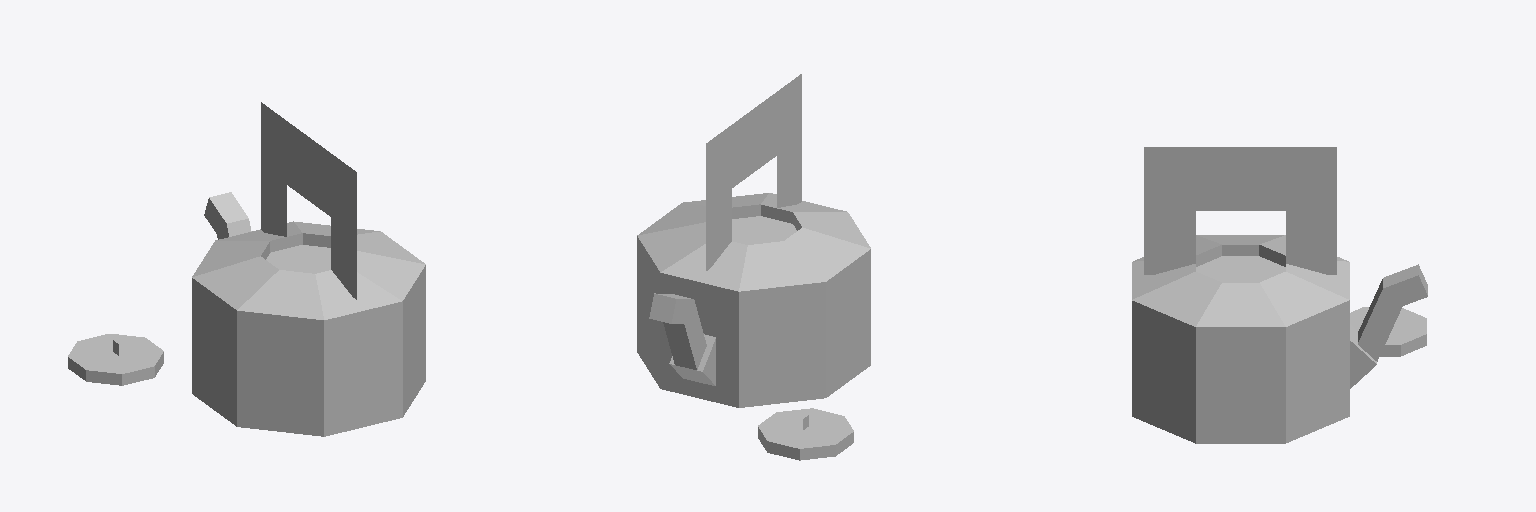
File: kettle_open.obj
The picture shows the model from 3 angles: view 1: azimuth 30°, elevation 25°; view 2: azimuth 150°, elevation 25°; view 3: azimuth 270°, elevation 25°; orthographic projection.
Visible parts, largest first — view 1: cylinder, handle, cylinder.000, cube.000; view 2: cylinder, handle, cylinder.000, cube.000, cube; view 3: cylinder, handle, cube.000, cylinder.000, cube.
Part boxes in pixels (bbox=[...]): cylinder: bbox=[192, 221, 425, 436]; handle: bbox=[261, 102, 356, 299]; cylinder.000: bbox=[68, 334, 163, 385]; cube.000: bbox=[204, 192, 251, 239]; cylinder: bbox=[637, 193, 870, 407]; handle: bbox=[706, 74, 801, 270]; cylinder.000: bbox=[758, 408, 853, 460]; cube.000: bbox=[649, 293, 706, 369]; cube: bbox=[669, 334, 715, 385]; cylinder: bbox=[1132, 235, 1349, 443]; handle: bbox=[1144, 147, 1336, 274]; cube.000: bbox=[1358, 264, 1427, 361]; cylinder.000: bbox=[1350, 307, 1426, 356]; cube: bbox=[1350, 324, 1376, 388].
Bounding box in the file's own units: 0.7188 × 0.6719 × 0.7221.